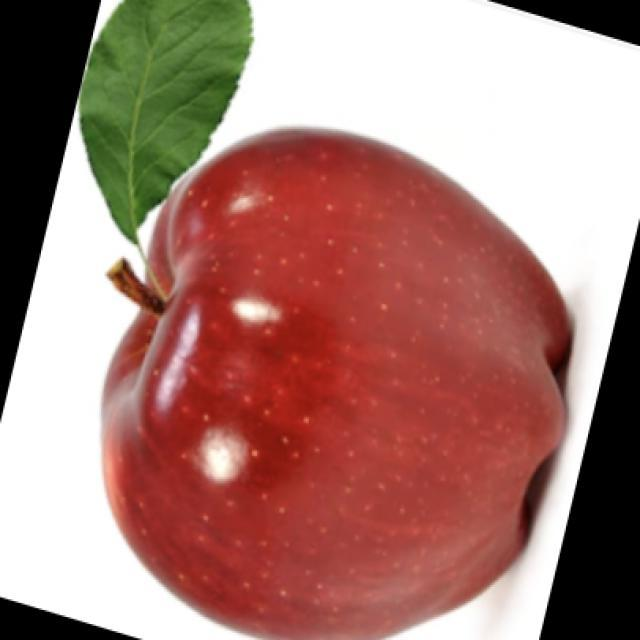Fresh Apple: (103, 125, 575, 640)
